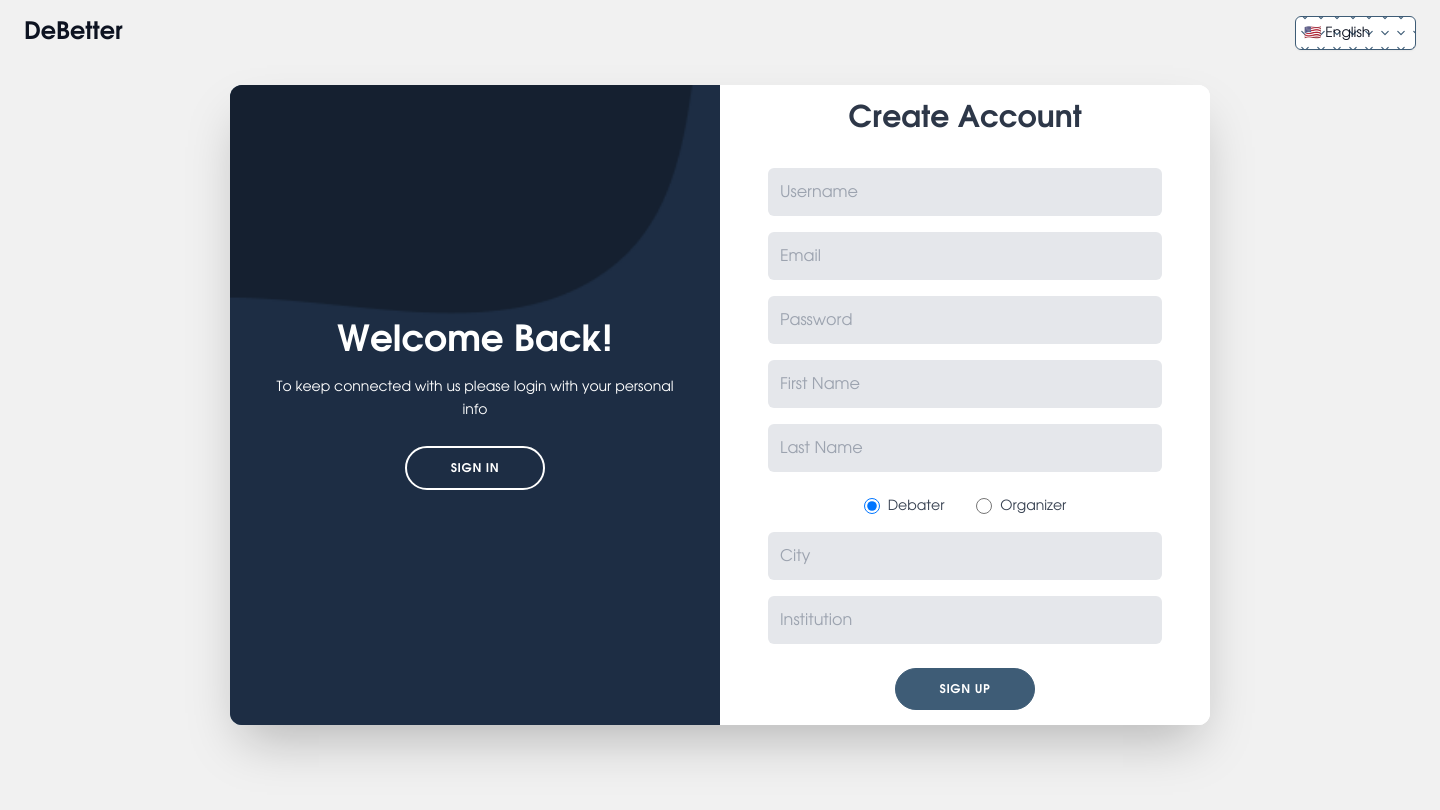
Test case: AuthPage sign-up › shows a meaningful message (not the generic catch-all) when the server returns an empty 403 body
The width and height of the screenshot is (1440, 810).
Type "nurassyl" into the field with id "auth-signup-name" at (965, 192), box [768,168,1162,216]
Type "nurassyl@example.com" into the field with placeholder "Email" at (965, 256), box [768,232,1162,280]
Type "Test12345!" into the password field with placeholder "Password" at (965, 320), box [768,296,1162,344]
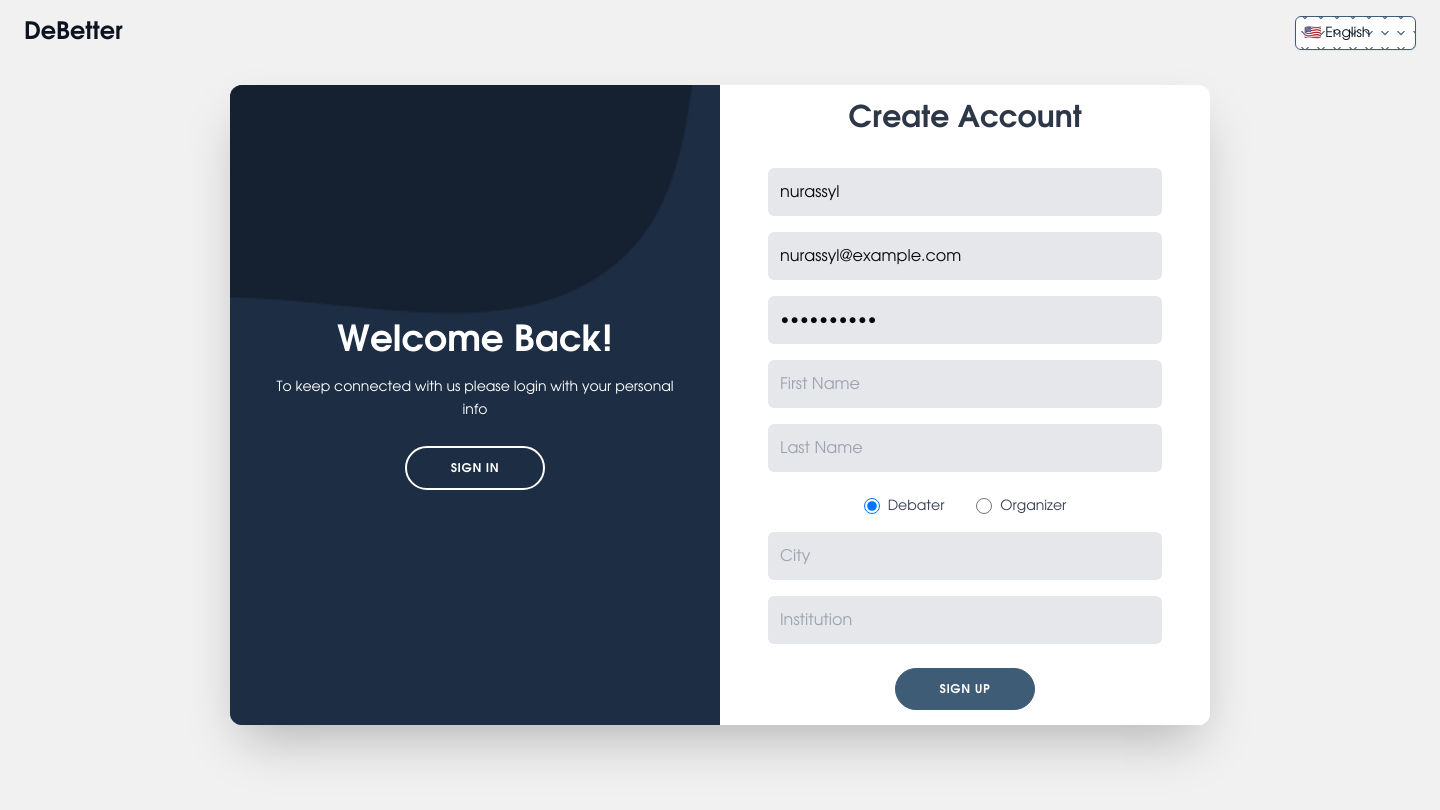
Type "Nurassyl" into the field with placeholder "First Name" at (965, 384), box [768,360,1162,408]
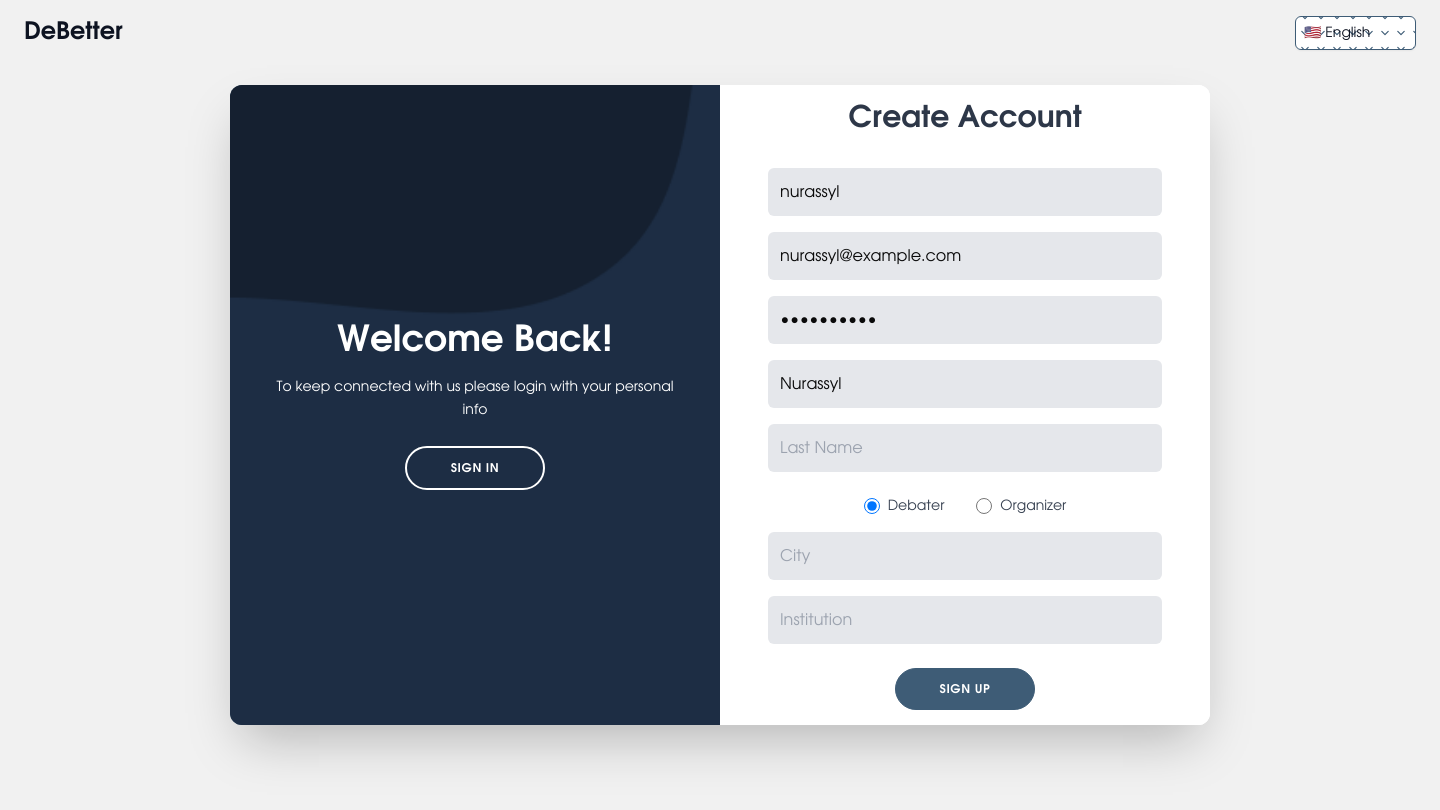
Type "Tursymbayev" into the field with placeholder "Last Name" at (965, 448), box [768,424,1162,472]
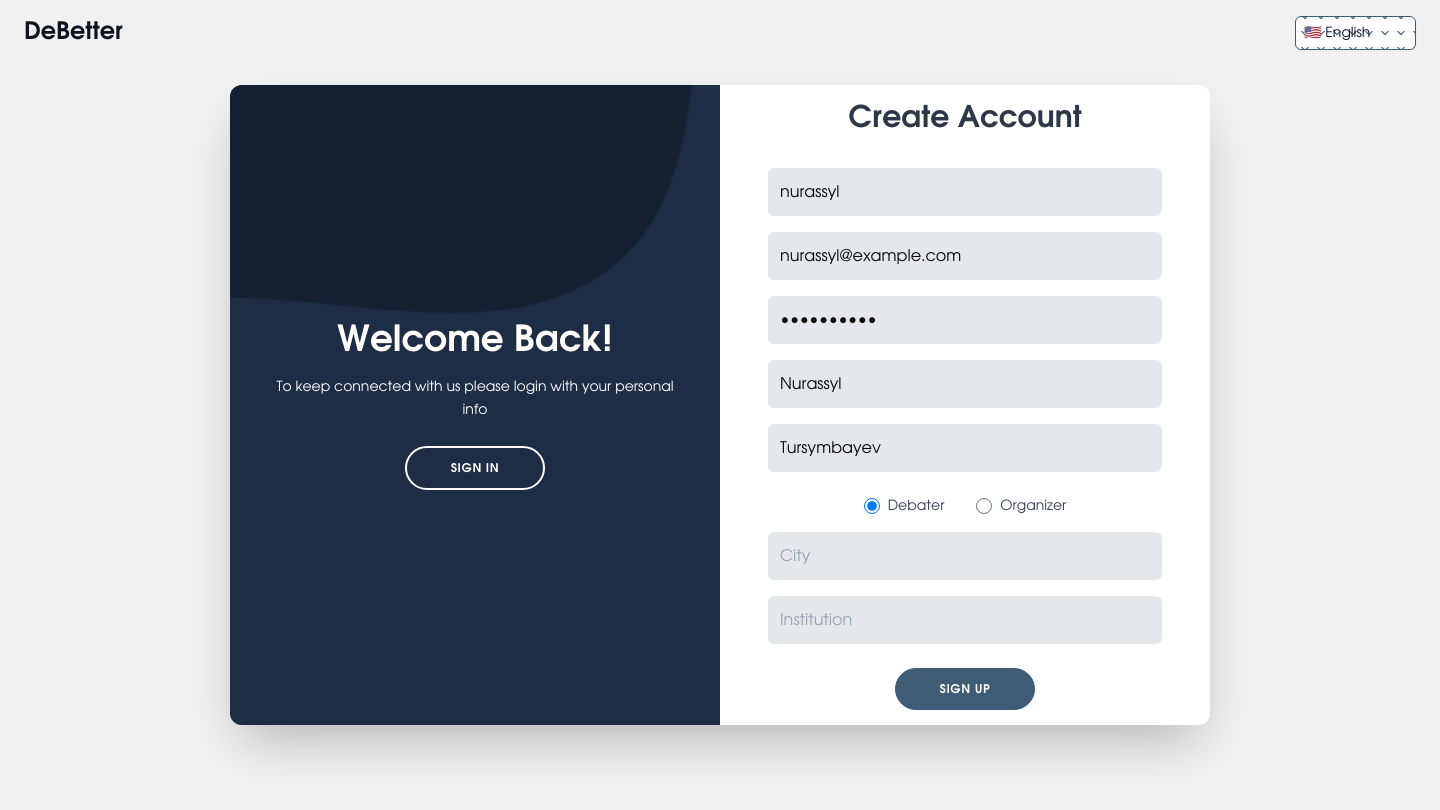
Type "Almaty" into the field with placeholder "City" at (965, 556), box [768,532,1162,580]
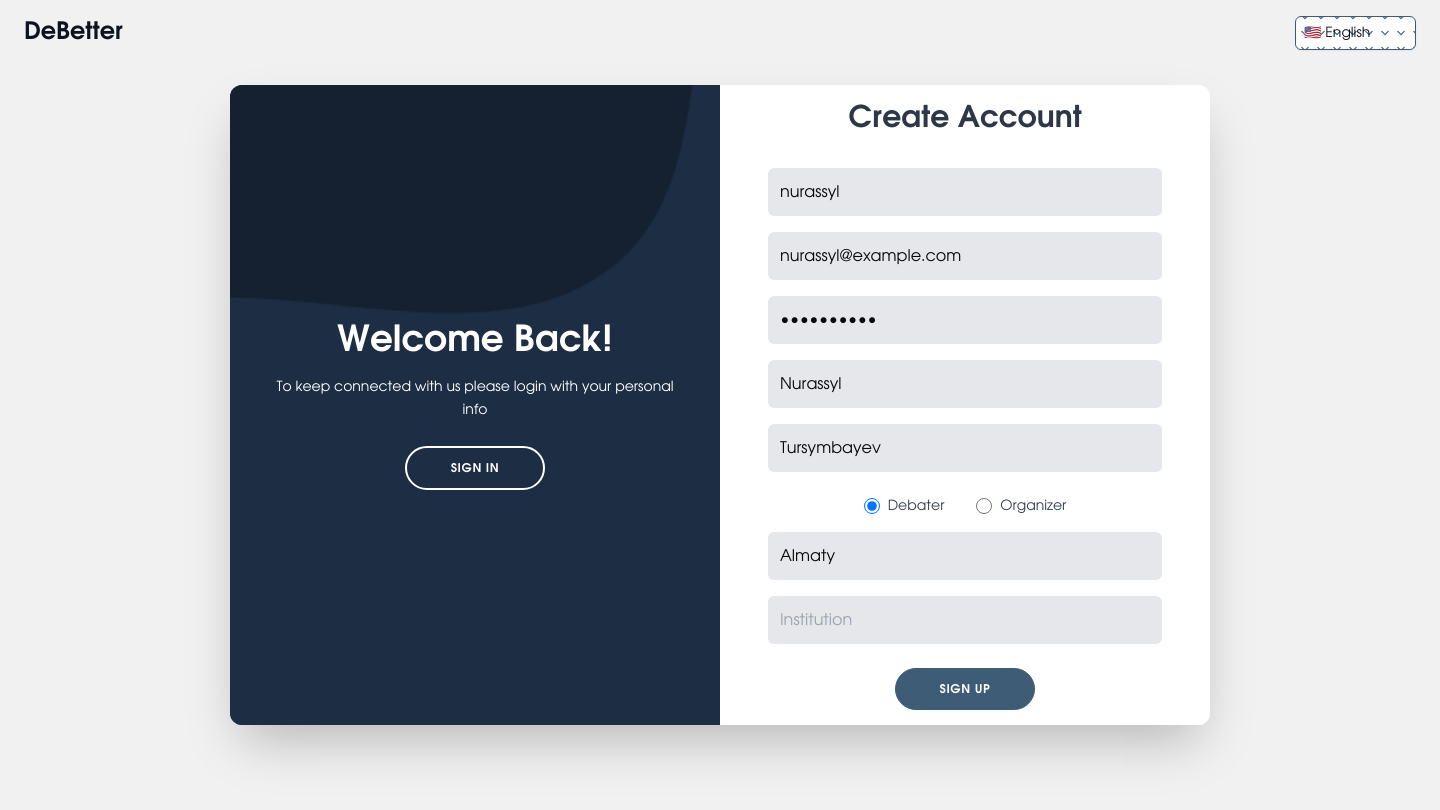
Type "NIS" into the field with placeholder "Institution" at (965, 620), box [768,596,1162,644]
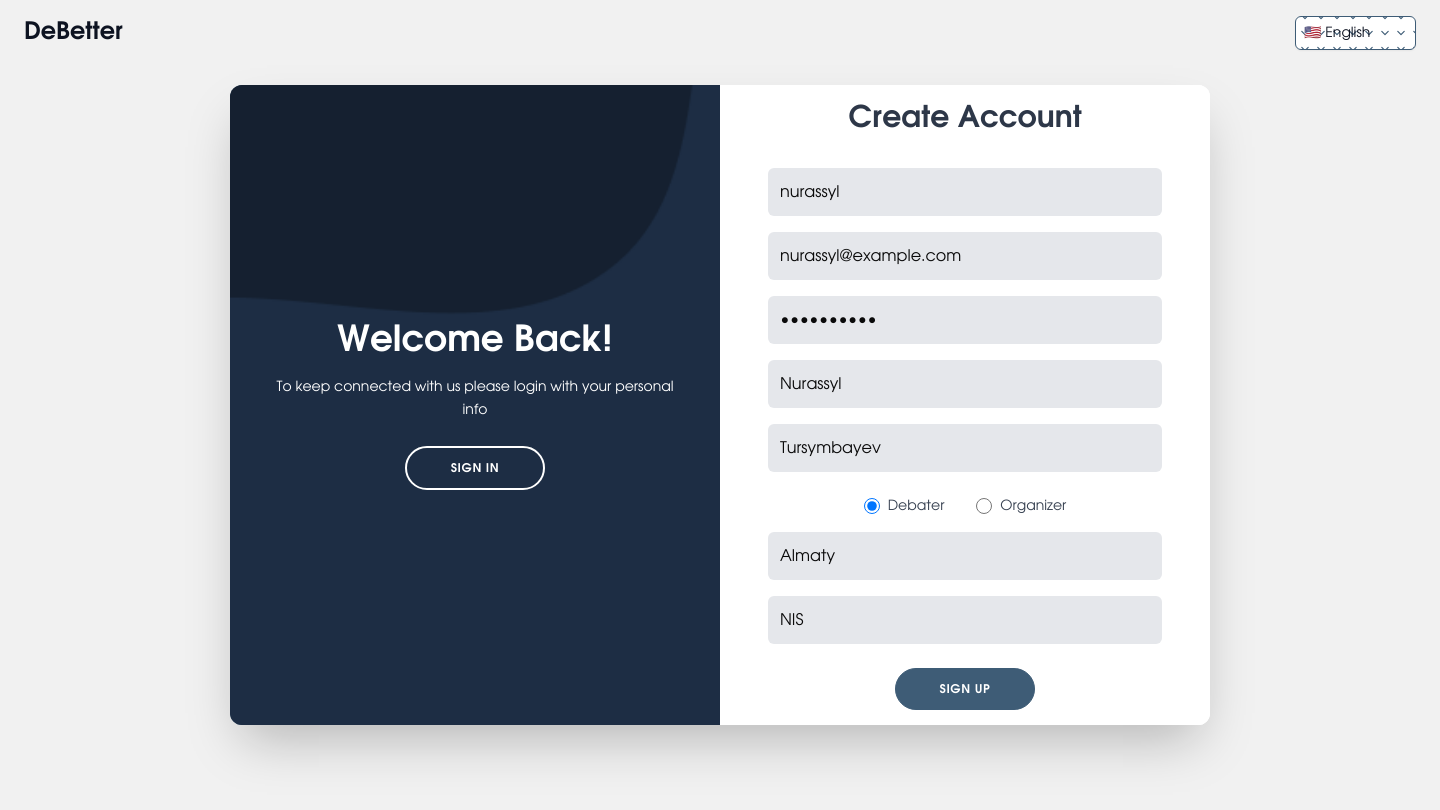
Submit the form with id "auth-signup-name", box [720,85,1210,725]
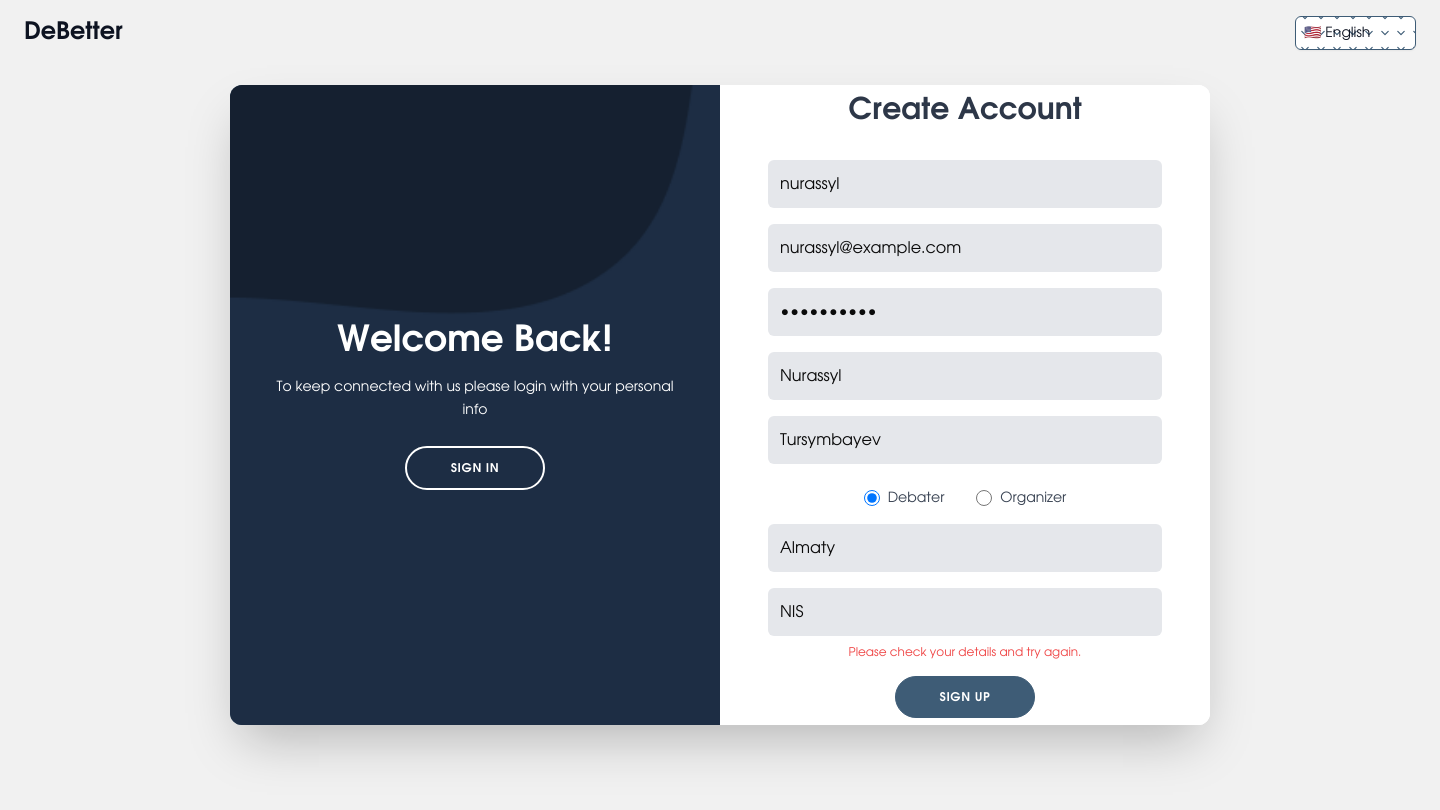
Check: the text "Please check your details and try again." is shown, box [849,644,1082,660]
